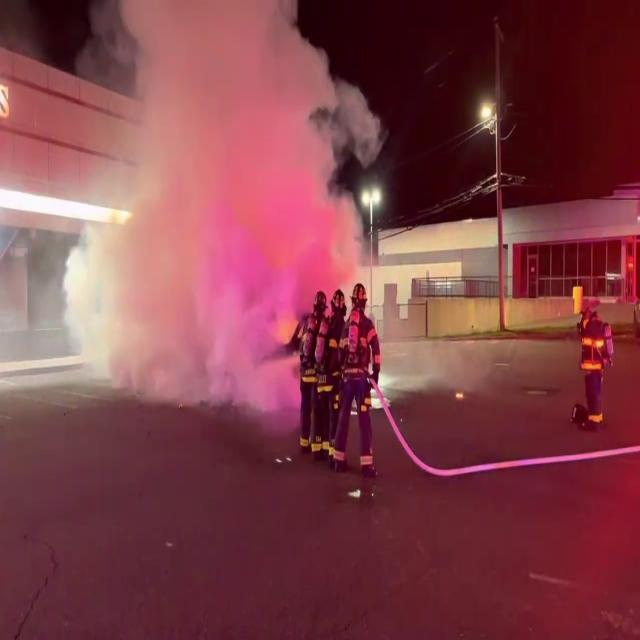Smoke: (86, 0, 374, 428)
